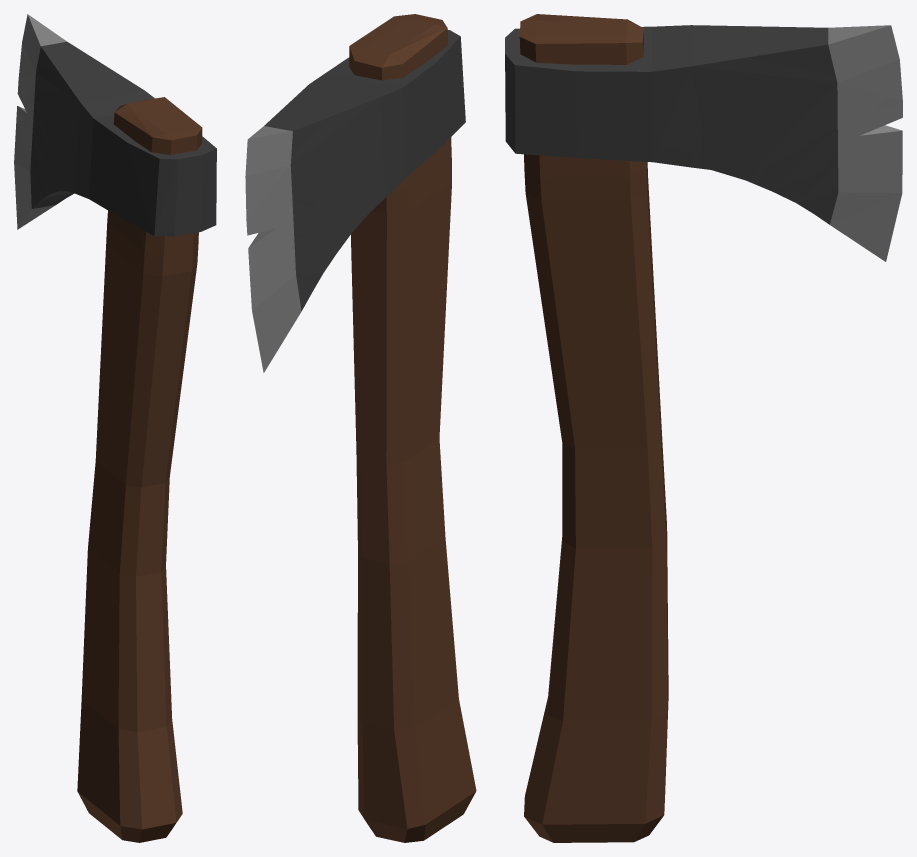
File: Axe.fbx
3 renders of one model, left to right at view 1: azimuth 30°, elevation 25°; view 2: azimuth 150°, elevation 25°; view 3: azimuth 270°, elevation 25°, orthographic. The views are drawn at different scales.
Visible parts, largest first — view 1: Axe; view 2: Axe; view 3: Axe.
Boxes of the visible parts, <box> form: Axe: <box>14,14,216,842</box>; Axe: <box>245,14,476,842</box>; Axe: <box>505,14,902,842</box>.
Size of the model in its own units: 58.82 by 438 by 193.
